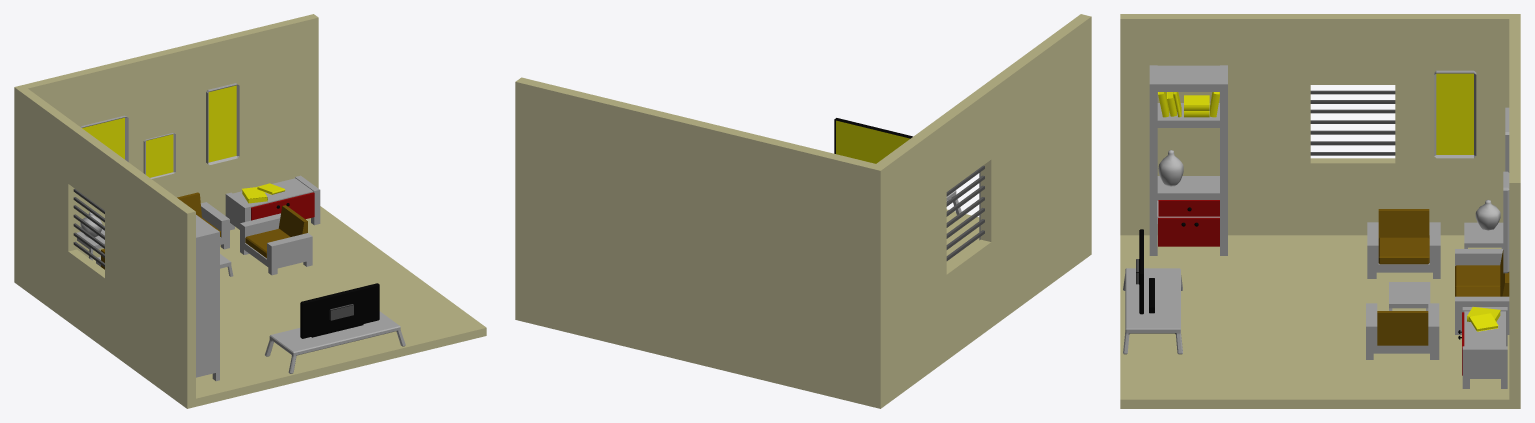
The model's file is Home.glb.
3 views of the same model, side by side, from view 1: azimuth 30°, elevation 25°; view 2: azimuth 150°, elevation 25°; view 3: azimuth 270°, elevation 25° (orthographic). The views are drawn at different scales.
Visible parts, largest first — view 1: polySurface8, polySurface16, pCube39, pCube45, pCube38, pCube47, pCube46, polySurface38, polySurface45, polySurface37, polySurface42, polySurface40 (+5 smaller); view 2: polySurface8, pCube39; view 3: polySurface8, pCube48, pCube38, polySurface11, polySurface46, polySurface16, polySurface39, polySurface34, polySurface20, polySurface36, polySurface12, pCube8 (+26 smaller).
Boxes of the visible parts, x1=… form: polySurface8: x1=14, y1=14, x2=486, y2=408; polySurface16: x1=196, y1=231, x2=219, y2=381; pCube39: x1=300, y1=283, x2=379, y2=338; pCube45: x1=206, y1=83, x2=239, y2=165; pCube38: x1=265, y1=311, x2=405, y2=373; pCube47: x1=143, y1=133, x2=175, y2=178; pCube46: x1=81, y1=115, x2=128, y2=161; polySurface38: x1=267, y1=233, x2=312, y2=262; polySurface45: x1=233, y1=178, x2=313, y2=207; polySurface37: x1=240, y1=240, x2=312, y2=275; polySurface42: x1=225, y1=192, x2=250, y2=230; polySurface40: x1=240, y1=213, x2=280, y2=243; polySurface8: x1=515, y1=14, x2=1091, y2=408; pCube39: x1=834, y1=118, x2=912, y2=163; polySurface8: x1=1120, y1=14, x2=1520, y2=408; pCube48: x1=1434, y1=70, x2=1476, y2=158; pCube38: x1=1123, y1=268, x2=1182, y2=354; polySurface11: x1=1152, y1=65, x2=1223, y2=91; polySurface46: x1=1462, y1=346, x2=1507, y2=388; polySurface16: x1=1149, y1=65, x2=1157, y2=255; polySurface39: x1=1377, y1=311, x2=1428, y2=345; polySurface34: x1=1378, y1=209, x2=1429, y2=238; polySurface20: x1=1220, y1=65, x2=1227, y2=255; polySurface36: x1=1378, y1=235, x2=1429, y2=264; polySurface12: x1=1157, y1=176, x2=1219, y2=200; pCube8: x1=1389, y1=282, x2=1430, y2=310.
Bounding box in the file's own units: 0.0718 × 0.0447 × 0.0718.
Materials: 21 (4 with a texture image).
